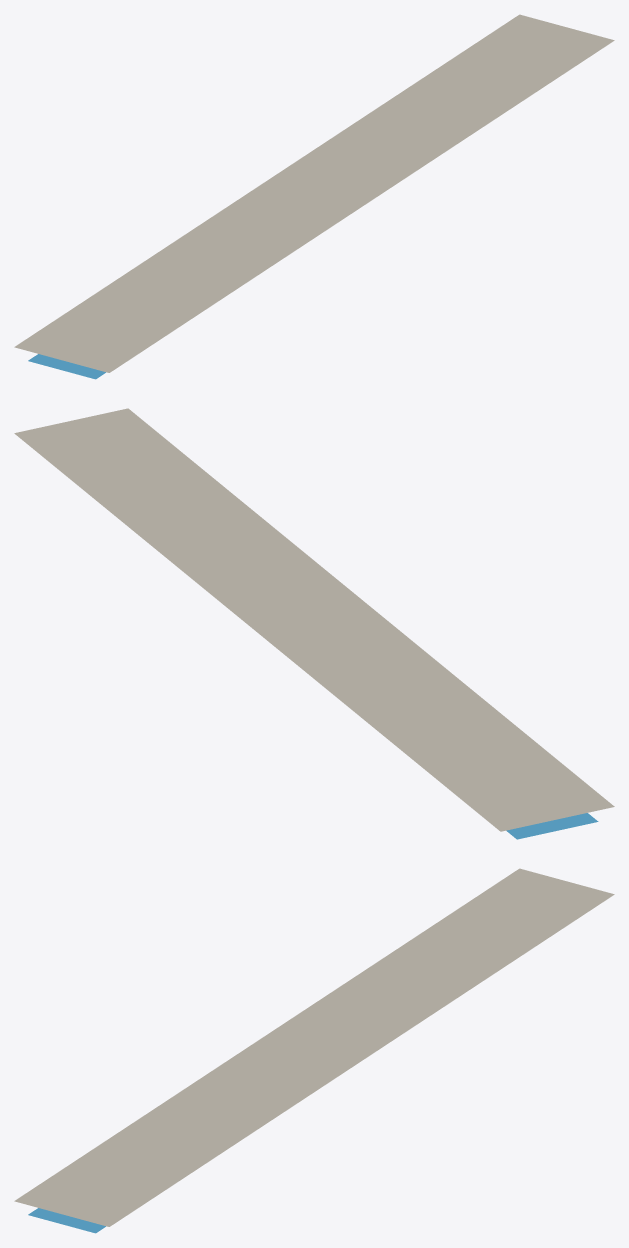
The picture shows the model from 3 angles, top to bottom: view 1: azimuth 90°, elevation 25°; view 2: azimuth 150°, elevation 25°; view 3: azimuth 270°, elevation 25°; orthographic projection. The views are drawn at different scales.
Visible parts, largest first — view 1: estructura_terreno, estructura_agua; view 2: estructura_terreno, estructura_agua; view 3: estructura_terreno, estructura_agua.
Boxes of the visible parts, x1,y1,x2,y2 form: estructura_terreno: (14,14,614,372); estructura_agua: (28,354,105,379); estructura_terreno: (14,408,614,831); estructura_agua: (506,813,598,839); estructura_terreno: (14,868,614,1226); estructura_agua: (28,1208,105,1233).
Bounding box in the file's own units: 31.43 × 0.41 × 22.26.
